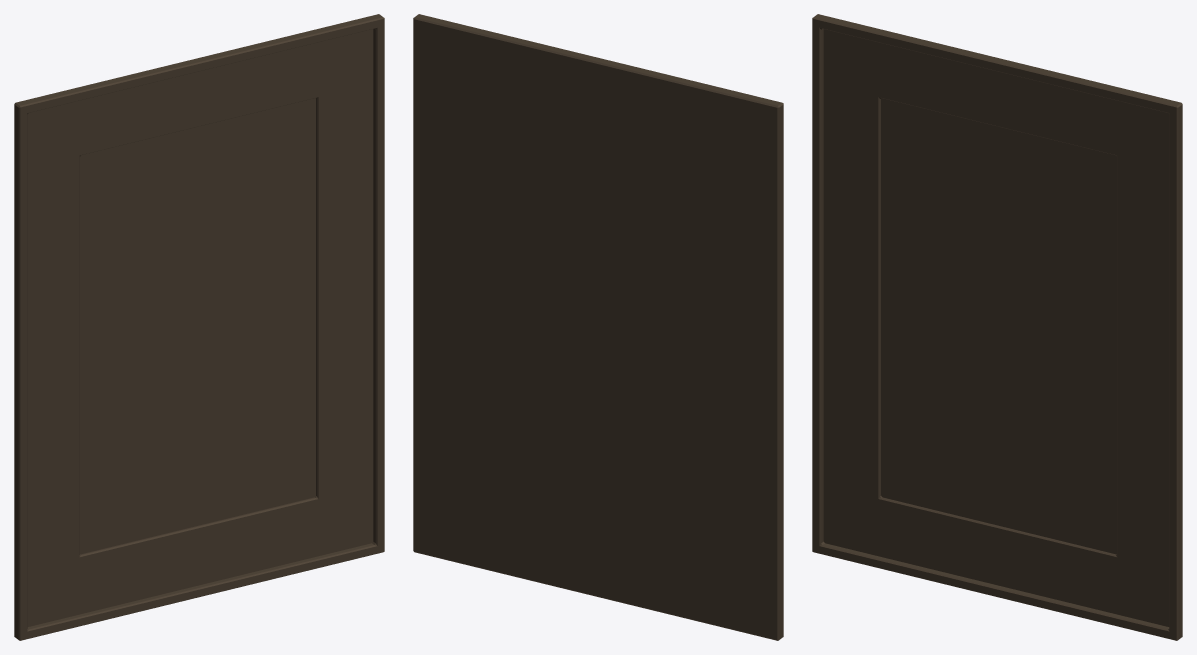
The model's file is frame_black_long.glb.
3 views of the same model, side by side, from view 1: azimuth 30°, elevation 25°; view 2: azimuth 150°, elevation 25°; view 3: azimuth 330°, elevation 25° (orthographic).
Visible parts, largest first — view 1: Frame_05_Frame_Version_02_0.001; view 2: Frame_05_Frame_Version_02_0.001; view 3: Frame_05_Frame_Version_02_0.001.
Part boxes in pixels (x1,y1,x2,y2): Frame_05_Frame_Version_02_0.001: (14,14,384,640); Frame_05_Frame_Version_02_0.001: (413,14,783,640); Frame_05_Frame_Version_02_0.001: (812,14,1182,640).
Bounding box in the file's own units: 2.09 × 2.92 × 0.0583.
